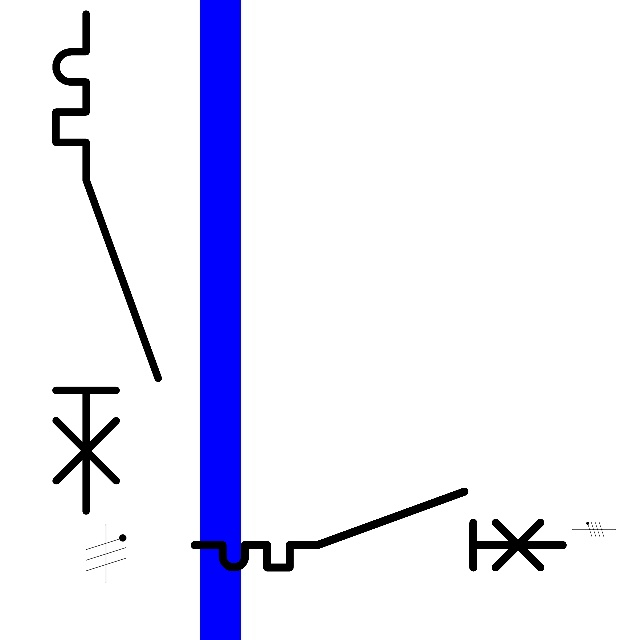interruptor_termomagnetico: (43, 1, 171, 524), (185, 482, 572, 577)
